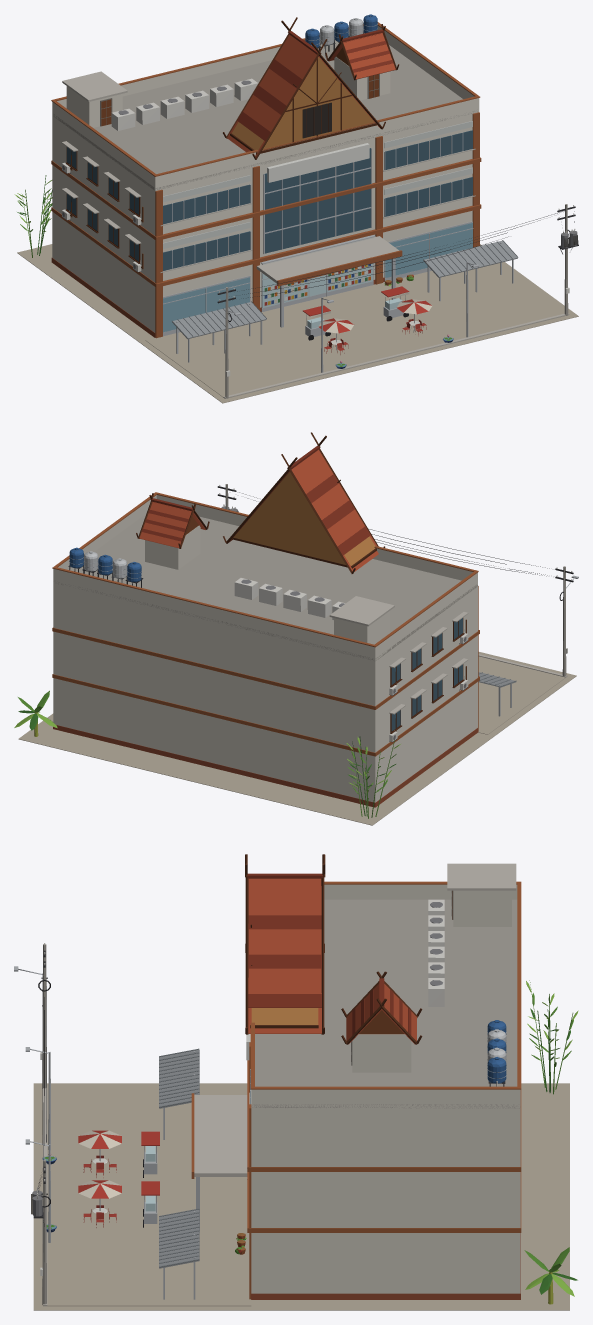
The model's file is shop_5.glb.
3 renders of one model, top to bottom at view 1: azimuth 30°, elevation 25°; view 2: azimuth 150°, elevation 25°; view 3: azimuth 270°, elevation 25°, orthographic. The views are drawn at different scales.
Parts seen in each view (by area): view 1: body, windows; view 2: body, windows; view 3: body.
Part boxes in pixels (bbox=[...]): body: bbox=[14, 14, 578, 403]; windows: bbox=[67, 102, 472, 270]; body: bbox=[14, 432, 578, 825]; windows: bbox=[391, 618, 462, 731]; body: bbox=[14, 854, 578, 1310].
Bounding box in the file's own units: 34.03 × 22.59 × 33.6.
